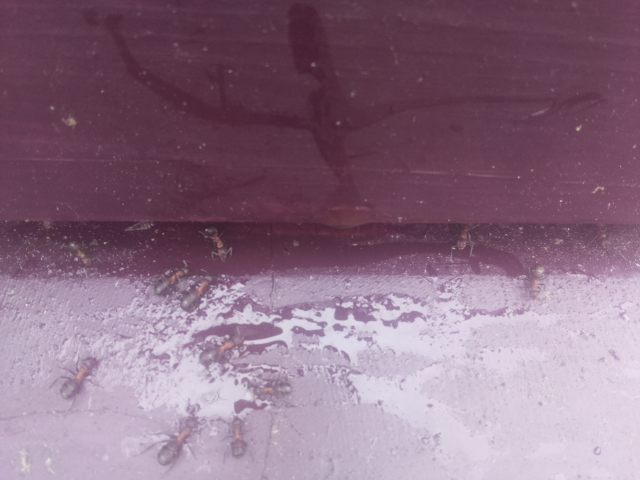ant: (150, 414, 201, 476), (54, 348, 104, 406), (174, 269, 218, 317), (198, 223, 232, 260), (524, 259, 548, 303), (228, 416, 250, 461), (152, 267, 190, 293), (214, 333, 248, 355)
